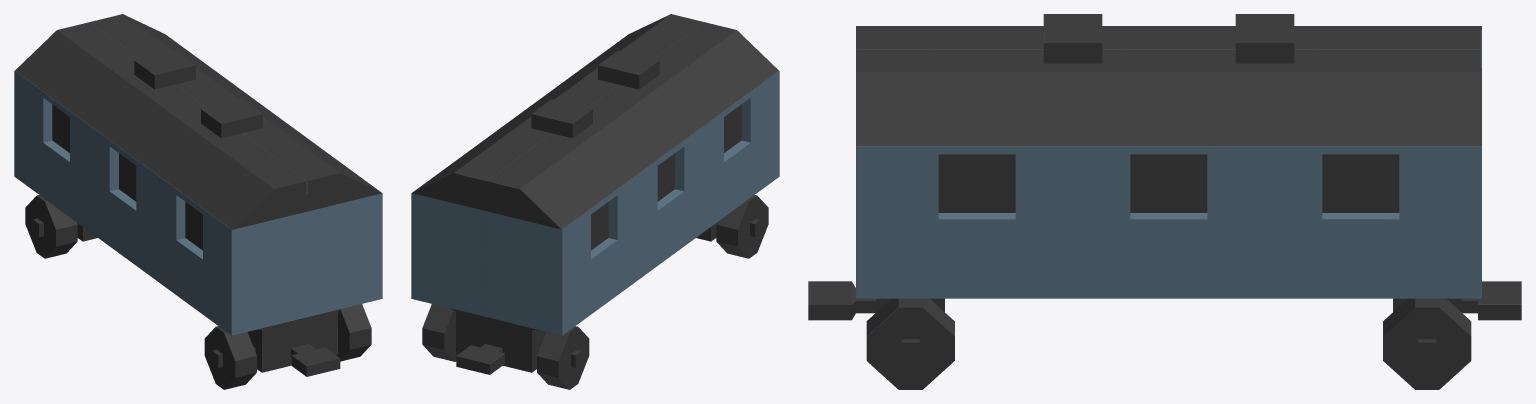
The model's file is Train_Car_4.glb.
3 renders of one model, left to right at view 1: azimuth 30°, elevation 25°; view 2: azimuth 150°, elevation 25°; view 3: azimuth 270°, elevation 25°, orthographic. The views are drawn at different scales.
Visible parts, largest first — view 1: Train_Car_4; view 2: Train_Car_4; view 3: Train_Car_4.
Part boxes in pixels (box(x1,y1,x2,y2)): Train_Car_4: box(14, 14, 382, 389); Train_Car_4: box(411, 14, 779, 389); Train_Car_4: box(808, 14, 1521, 389).
Size of what is drawn, in the model's own units: 2.2 by 3.03 by 6.25.
1 material, 1 textured.
